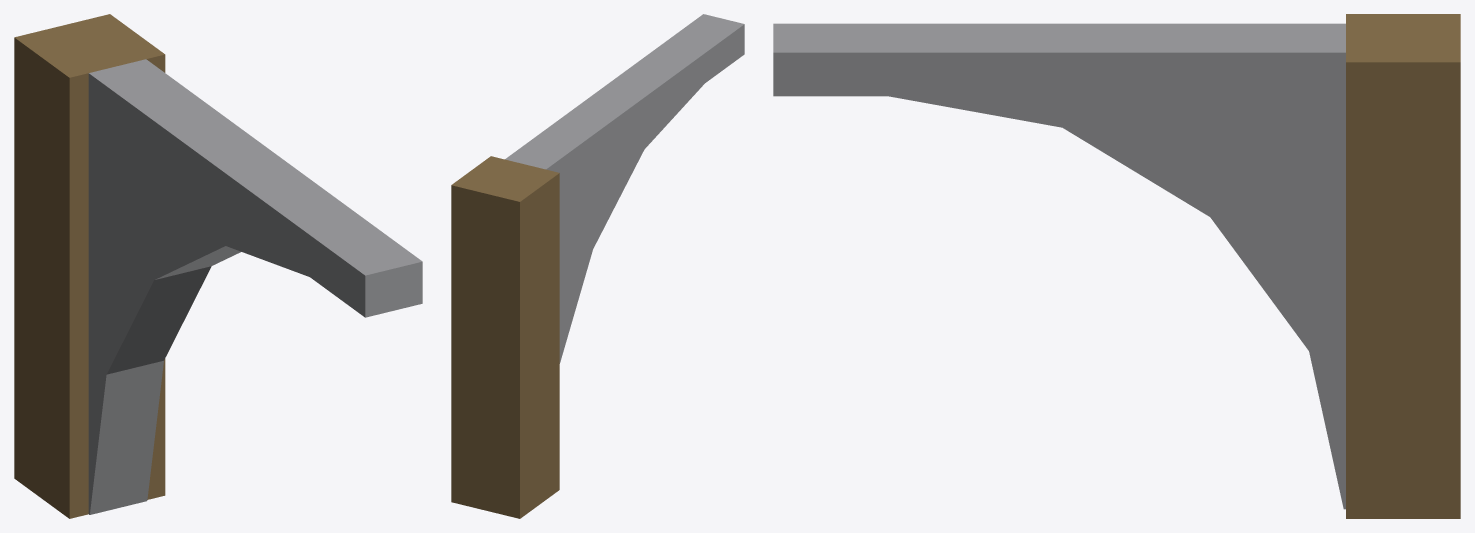
The model's file is Wood_Arch_01.obj.
3 renders of one model, left to right at view 1: azimuth 30°, elevation 25°; view 2: azimuth 150°, elevation 25°; view 3: azimuth 270°, elevation 25°, orthographic. The views are drawn at different scales.
Parts seen in each view (by area): view 1: Mesh1_Wood_Arch_Model; view 2: Mesh1_Wood_Arch_Model; view 3: Mesh1_Wood_Arch_Model.
Part boxes in pixels (left/top/right/bottom): Mesh1_Wood_Arch_Model: left=14, top=14, right=422, bottom=518; Mesh1_Wood_Arch_Model: left=451, top=14, right=744, bottom=518; Mesh1_Wood_Arch_Model: left=773, top=14, right=1460, bottom=518.
Size of the model in its own units: 0.5 by 2.2 by 3.
